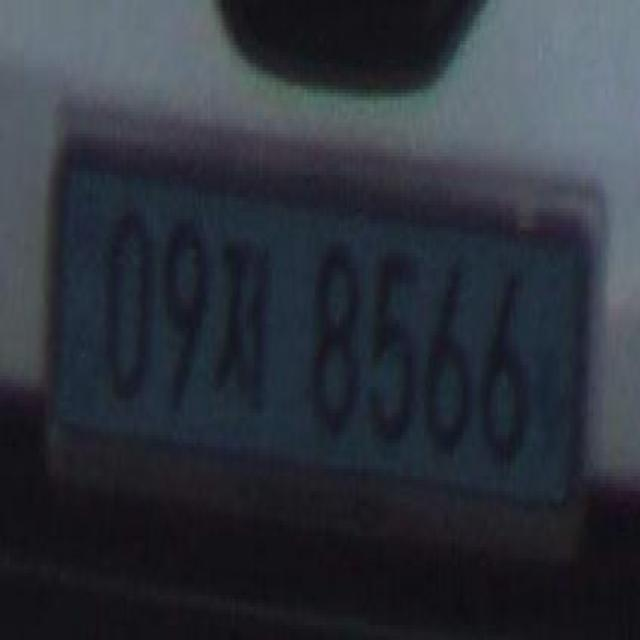EV_plate: (44, 133, 613, 537)
